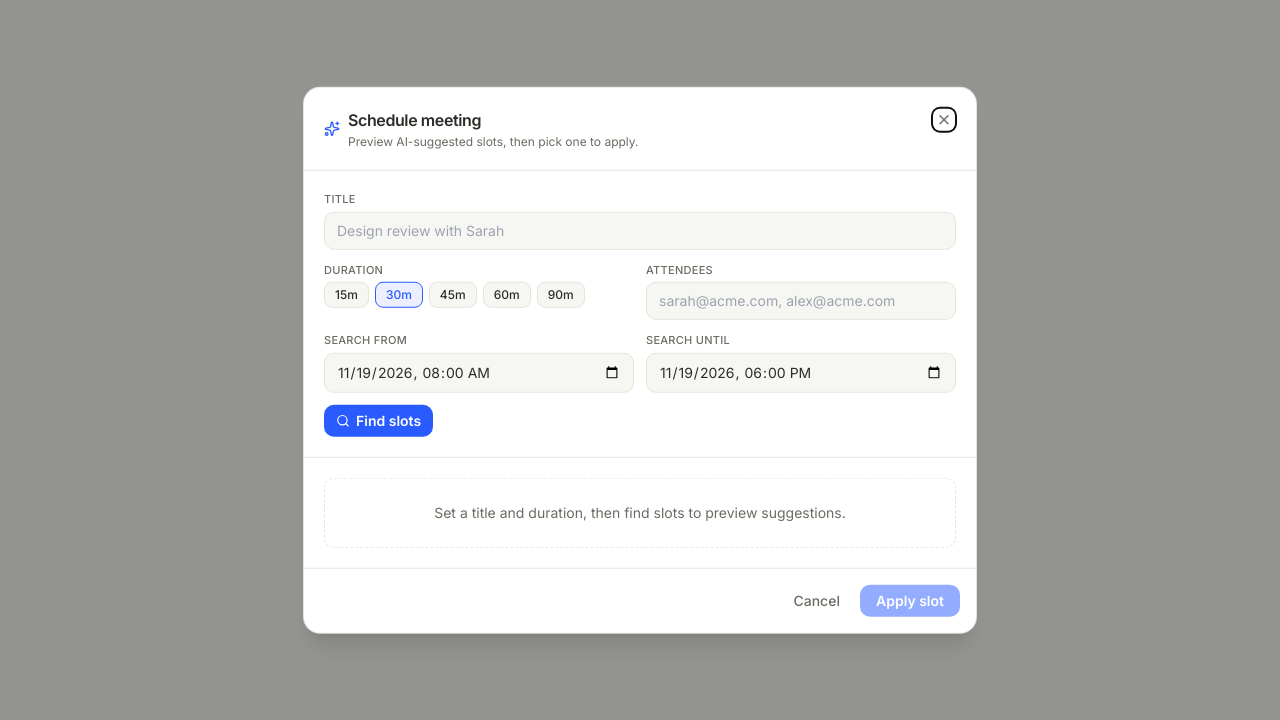
Test: PAC-92: the suggest failure in the Schedule meeting modal › the budget 503: tagged budget, on a read
In the field labelled "Title": (640, 230) [324, 211, 956, 249], type "Sync"
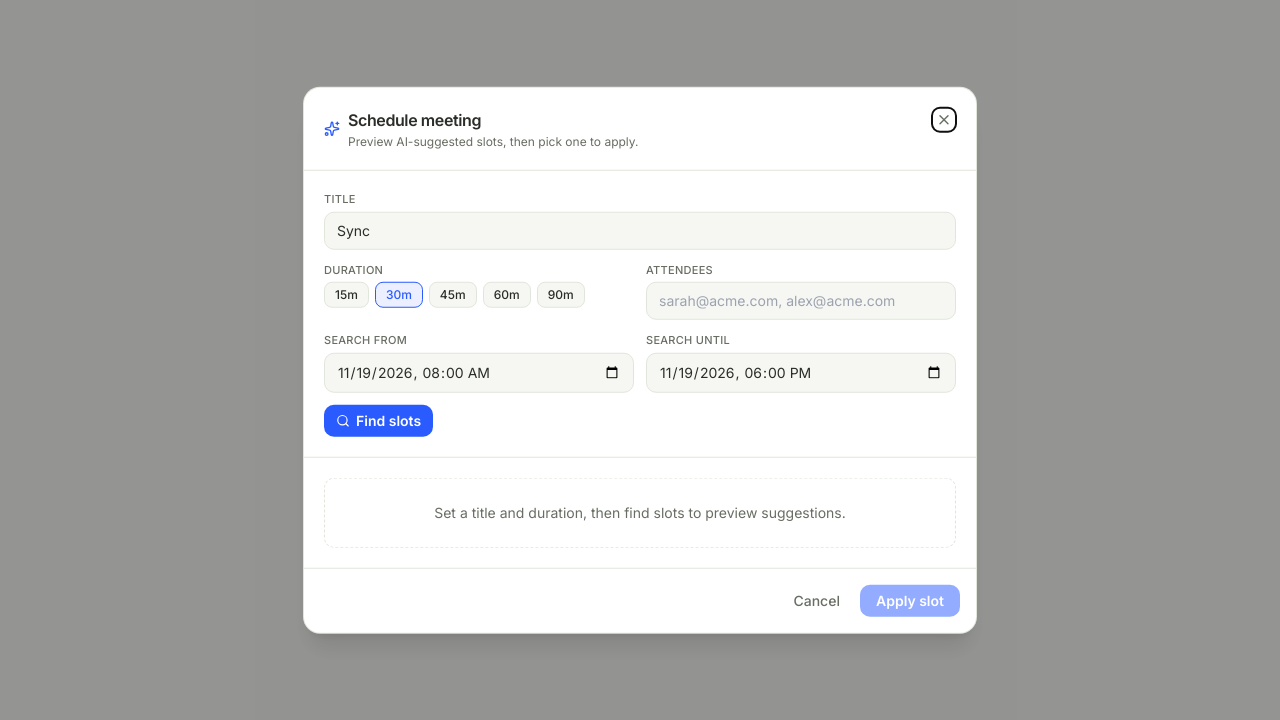
Click the button "Find slots": click(379, 420) [324, 404, 433, 436]
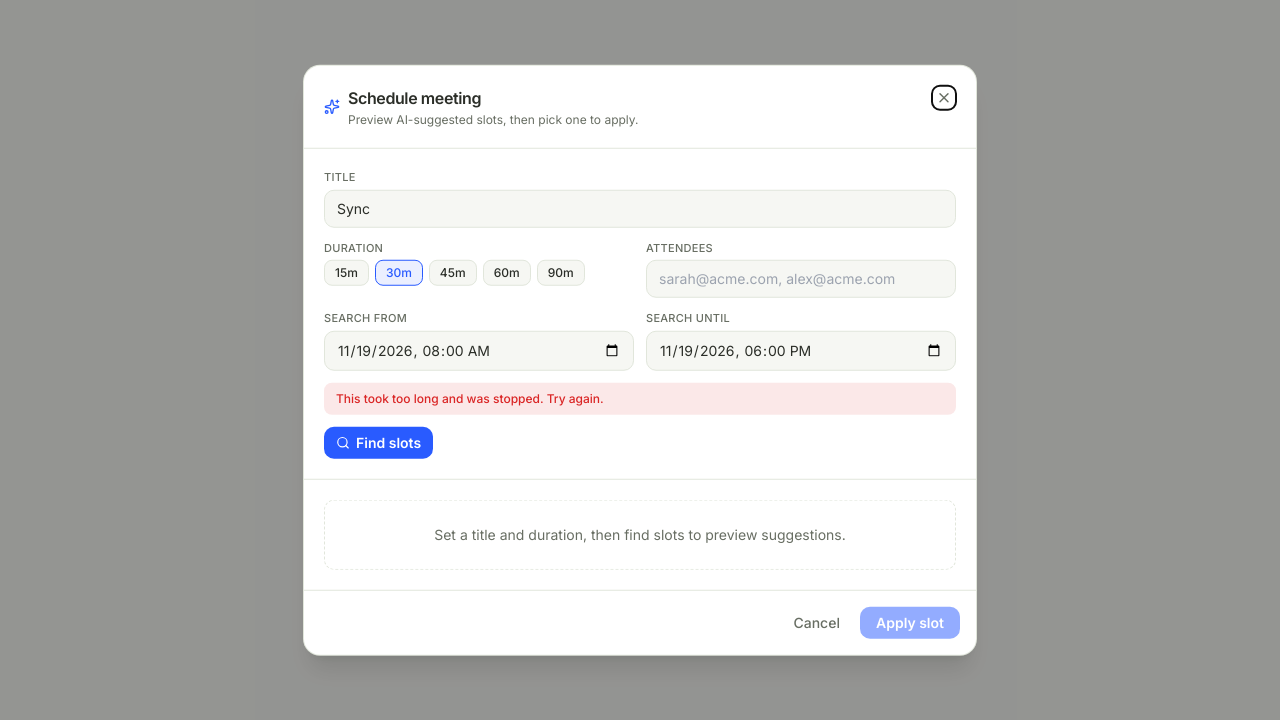
Result: the text with test id "api-error" reads "This took too long and was stopped. Try again." at [336, 390, 604, 405]
